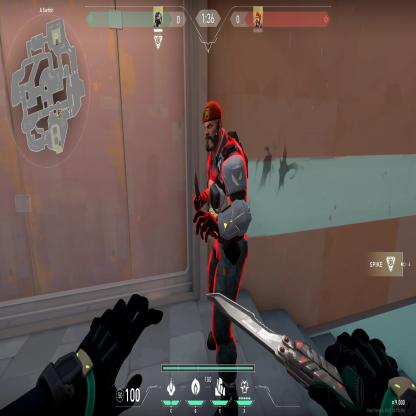enemy: (185, 98, 255, 303)
